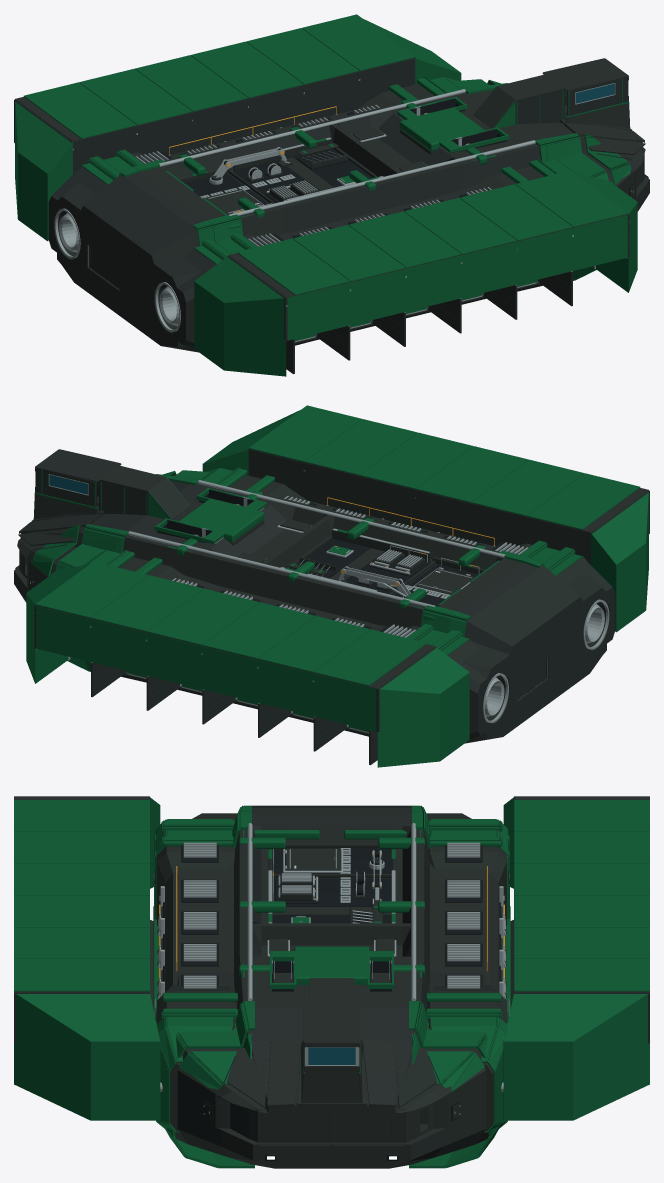
File: pioneer.glb
3 views of the same model, one above another, from view 1: azimuth 30°, elevation 25°; view 2: azimuth 150°, elevation 25°; view 3: azimuth 270°, elevation 25° (orthographic). The views are drawn at different scales.
Visible parts, largest first — view 1: Pioneer saved-master body; view 2: Pioneer saved-master body; view 3: Pioneer saved-master body.
Part boxes in pixels (x1,y1,x2,y2): Pioneer saved-master body: (14,14,649,376); Pioneer saved-master body: (14,405,649,767); Pioneer saved-master body: (14,796,649,1168).
Bounding box in the file's own units: 72 × 20.35 × 67.6.
